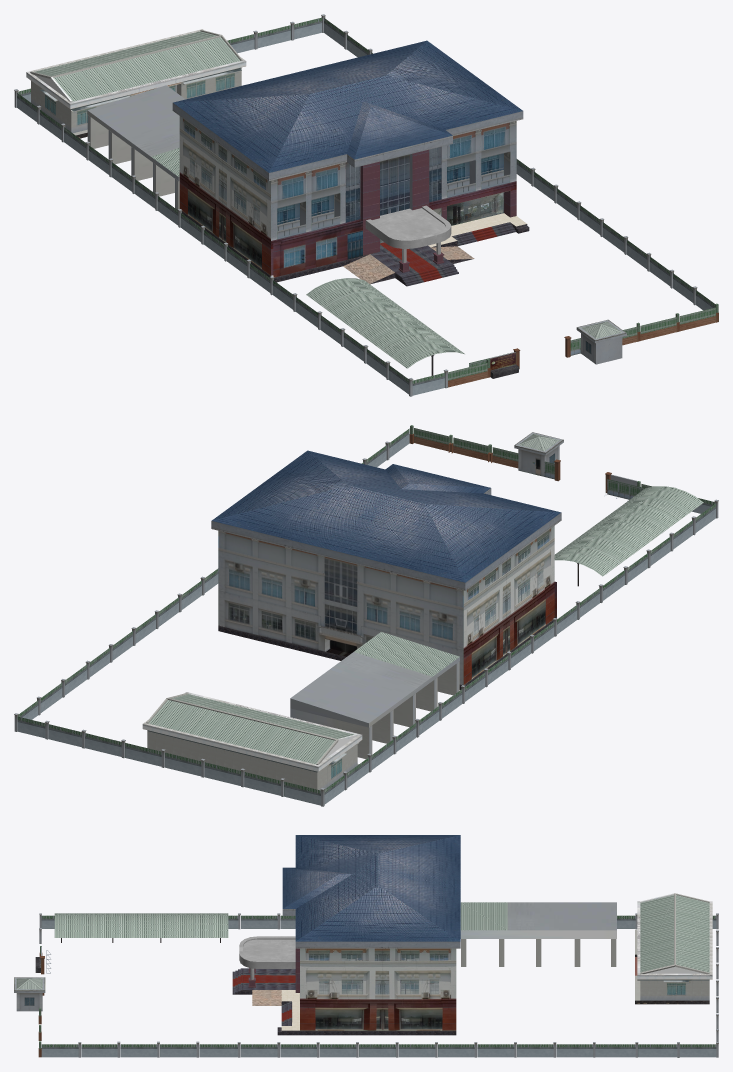
Rendered from Trung tam Xuc tien dau tu Thuong mai va du lich tinh Binh Phuoc.glb.
The picture shows the model from 3 angles, top to bottom: view 1: azimuth 30°, elevation 25°; view 2: azimuth 150°, elevation 25°; view 3: azimuth 270°, elevation 25°; orthographic projection. The views are drawn at different scales.
Parts seen in each view (by area): view 1: BPH025_Trung_tam_Xuc_tien_dau_tu_Thuong_mai_va_du_lich_tinh, BPH025_Trung_tam_Xuc_tien_dau_tu_Thuong_mai_va_du_lich_tinh_, BPH025_Trung tam Xuc tien dau tu Thuong mai va du lich tinh , BPH025_Trung tam Xuc tien dau tu Thuong mai va du lich tinh., BPH025_Trung tam Xuc tien dau tu Thuong mai va du lich tinh; view 2: BPH025_Trung_tam_Xuc_tien_dau_tu_Thuong_mai_va_du_lich_tinh, BPH025_Trung_tam_Xuc_tien_dau_tu_Thuong_mai_va_du_lich_tinh_, BPH025_Trung tam Xuc tien dau tu Thuong mai va du lich tinh , BPH025_Trung tam Xuc tien dau tu Thuong mai va du lich tinh., BPH025_Trung tam Xuc tien dau tu Thuong mai va du lich tinh; view 3: BPH025_Trung_tam_Xuc_tien_dau_tu_Thuong_mai_va_du_lich_tinh, BPH025_Trung_tam_Xuc_tien_dau_tu_Thuong_mai_va_du_lich_tinh_, BPH025_Trung tam Xuc tien dau tu Thuong mai va du lich tinh , BPH025_Trung tam Xuc tien dau tu Thuong mai va du lich tinh., BPH025_Trung tam Xuc tien dau tu Thuong mai va du lich tinh.
Part boxes in pixels (left/top/right/bottom): BPH025_Trung_tam_Xuc_tien_dau_tu_Thuong_mai_va_du_lich_tinh: left=172, top=40, right=529, bottom=286; BPH025_Trung_tam_Xuc_tien_dau_tu_Thuong_mai_va_du_lich_tinh_: left=14, top=14, right=718, bottom=396; BPH025_Trung tam Xuc tien dau tu Thuong mai va du lich tinh : left=26, top=29, right=246, bottom=138; BPH025_Trung tam Xuc tien dau tu Thuong mai va du lich tinh.: left=87, top=85, right=185, bottom=209; BPH025_Trung tam Xuc tien dau tu Thuong mai va du lich tinh: left=306, top=278, right=464, bottom=375; BPH025_Trung_tam_Xuc_tien_dau_tu_Thuong_mai_va_du_lich_tinh: left=211, top=450, right=561, bottom=689; BPH025_Trung_tam_Xuc_tien_dau_tu_Thuong_mai_va_du_lich_tinh_: left=14, top=425, right=718, bottom=806; BPH025_Trung tam Xuc tien dau tu Thuong mai va du lich tinh : left=142, top=692, right=362, bottom=790; BPH025_Trung tam Xuc tien dau tu Thuong mai va du lich tinh.: left=290, top=631, right=459, bottom=758; BPH025_Trung tam Xuc tien dau tu Thuong mai va du lich tinh: left=554, top=486, right=703, bottom=586; BPH025_Trung_tam_Xuc_tien_dau_tu_Thuong_mai_va_du_lich_tinh: left=232, top=835, right=460, bottom=1035; BPH025_Trung_tam_Xuc_tien_dau_tu_Thuong_mai_va_du_lich_tinh_: left=14, top=913, right=718, bottom=1057; BPH025_Trung tam Xuc tien dau tu Thuong mai va du lich tinh : left=635, top=893, right=712, bottom=1004; BPH025_Trung tam Xuc tien dau tu Thuong mai va du lich tinh.: left=460, top=902, right=616, bottom=966; BPH025_Trung tam Xuc tien dau tu Thuong mai va du lich tinh: left=54, top=913, right=228, bottom=942.
Size of the model in its own units: 35.34 by 14.65 by 81.13.
Materials: 4 (4 with a texture image).
